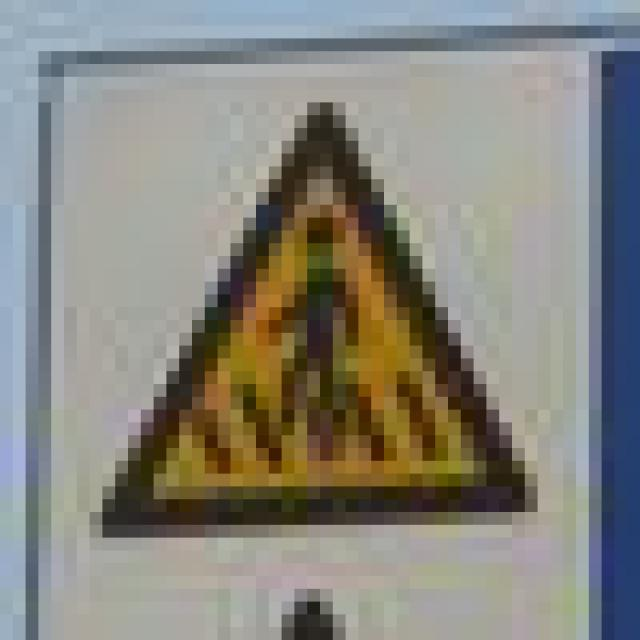PEDESTRIAN_CROSSING: (77, 90, 525, 512)
